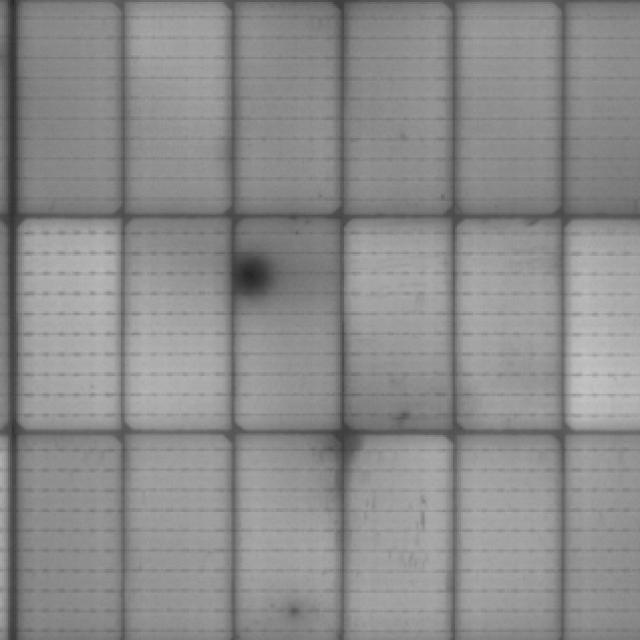BLACK SPOT: (228, 239, 270, 313)
